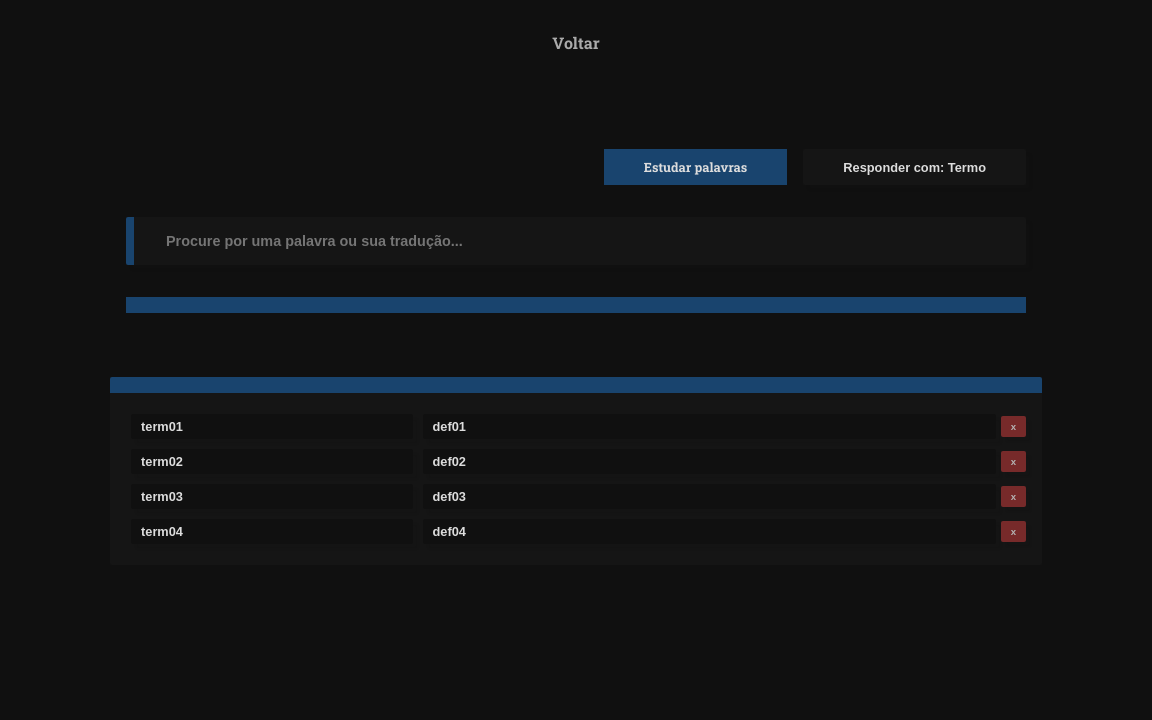
Scenario: WordsContainer › Save words
The image size is (1152, 720).
Replace the text in the 2nd field with "Edited word". click: (272, 426)
box: [131,414,412,439]
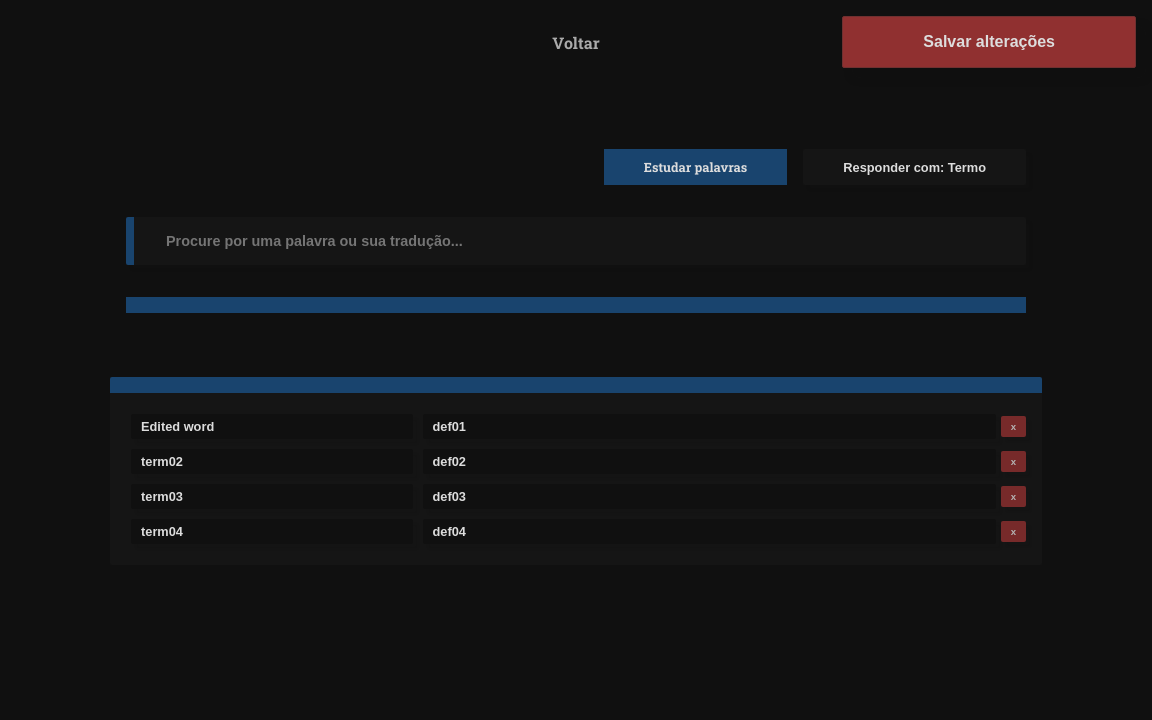
Click the button "Salvar alterações". click: (989, 42)
box: [842,16,1136,68]
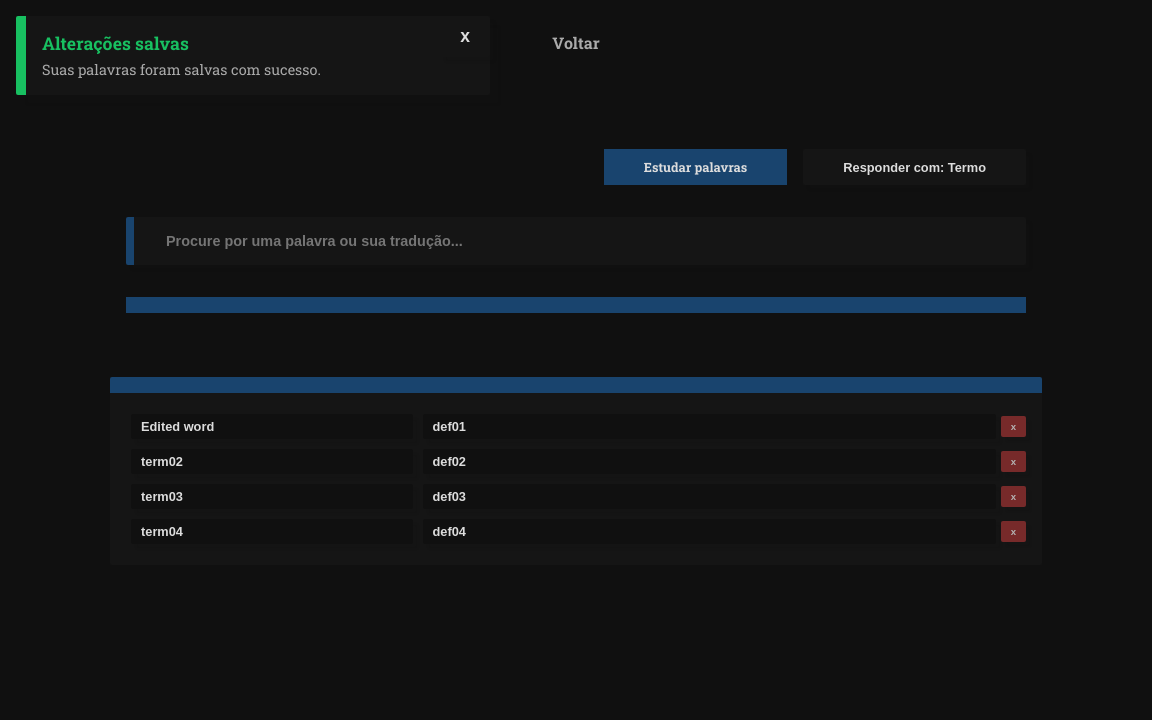
Expected: the heading with class "title" reads "Alterações salvas", [42,32,189,55]
